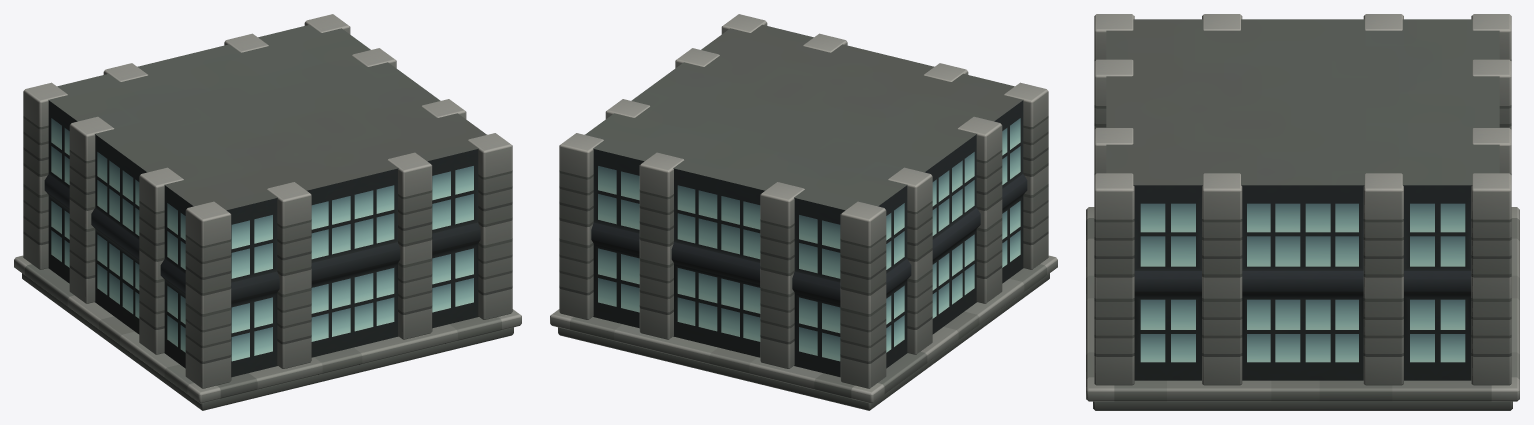
File: office_building_type1_double_floor_grey.fbx
The picture shows the model from 3 angles, left to right: view 1: azimuth 30°, elevation 25°; view 2: azimuth 150°, elevation 25°; view 3: azimuth 270°, elevation 25°; orthographic projection. The views are drawn at different scales.
Visible parts, largest first — view 1: office_building_type1_double_floor_grey; view 2: office_building_type1_double_floor_grey; view 3: office_building_type1_double_floor_grey.
Part boxes in pixels (box(x1,y1,x2,y2)): office_building_type1_double_floor_grey: box(14, 14, 521, 410); office_building_type1_double_floor_grey: box(550, 14, 1057, 410); office_building_type1_double_floor_grey: box(1086, 14, 1519, 410).
Size of the model in its own units: 1610 by 909 by 1610.
